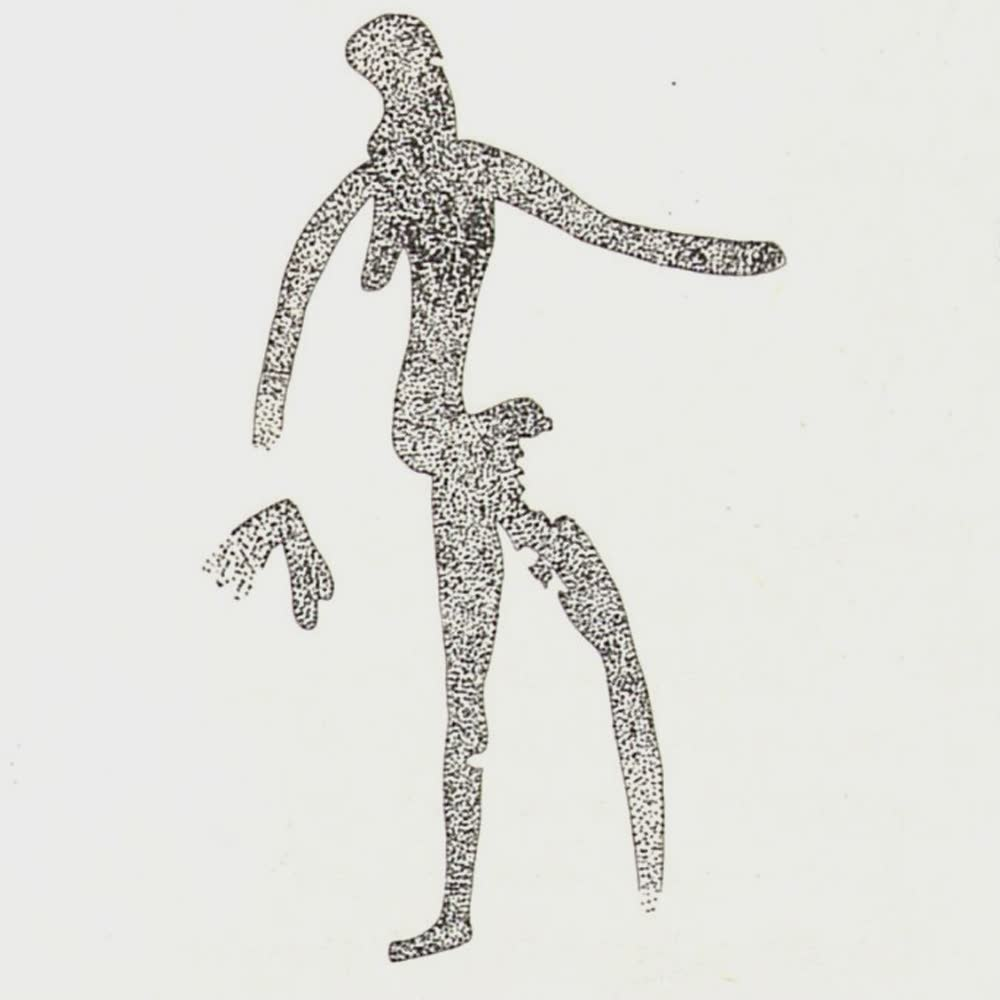woman: (199, 10, 795, 968)
